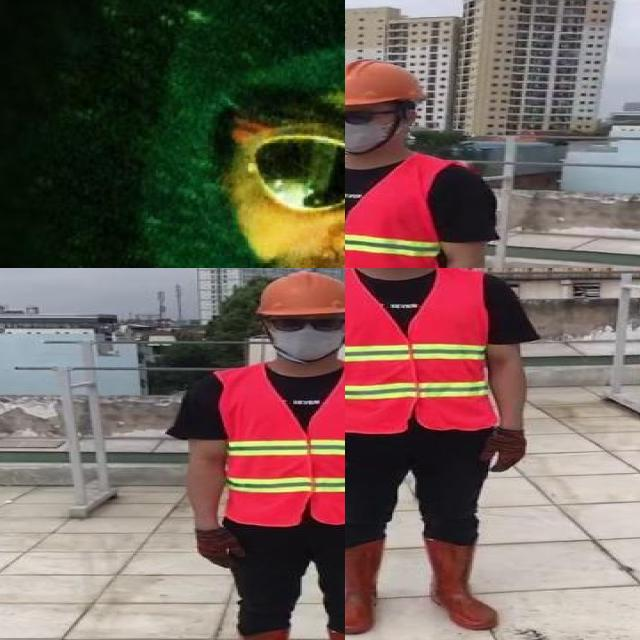boots: (415, 532, 497, 632), (345, 538, 385, 634)
face_mask: (262, 312, 345, 363), (345, 104, 392, 154)
face_nomask: (220, 111, 345, 268)
glasses: (223, 119, 345, 236), (266, 312, 345, 336), (345, 104, 389, 128)
hand_glove: (190, 525, 245, 571), (479, 426, 527, 472)
head_helmet: (252, 268, 345, 317), (345, 59, 419, 114)
person: (345, 268, 536, 640), (169, 274, 345, 640), (345, 51, 501, 268)
vest: (345, 268, 489, 432), (216, 363, 345, 525), (345, 154, 447, 268)
